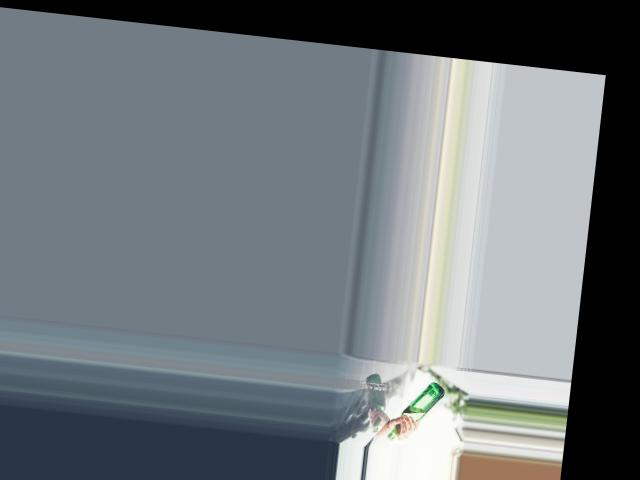beer: (386, 377, 445, 444)
